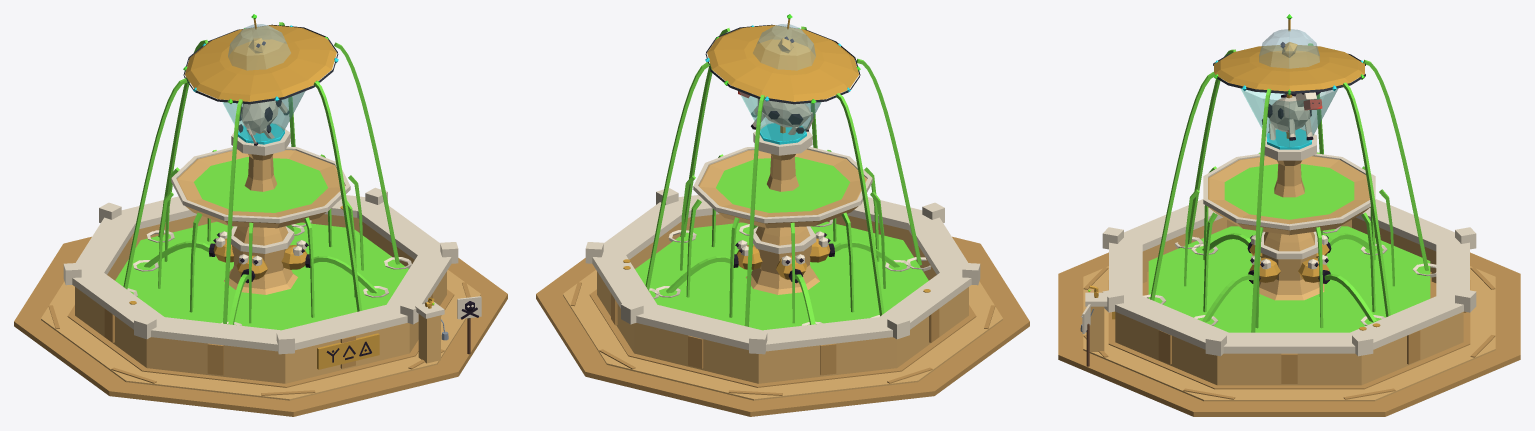
Rendered from Bldg_Fountain.obj.
The picture shows the model from 3 angles, left to right: view 1: azimuth 30°, elevation 25°; view 2: azimuth 150°, elevation 25°; view 3: azimuth 270°, elevation 25°; orthographic projection.
Parts seen in each view (by area): view 1: Bldg_Fountain_Body, Bldg_Fountain_Liquid, Bldg_Fountain_Streams, Bldg_Fountain_Saucer, Bldg_Fountain_Cow; view 2: Bldg_Fountain_Body, Bldg_Fountain_Liquid, Bldg_Fountain_Streams, Bldg_Fountain_Saucer, Bldg_Fountain_Cow; view 3: Bldg_Fountain_Body, Bldg_Fountain_Liquid, Bldg_Fountain_Streams, Bldg_Fountain_Saucer, Bldg_Fountain_Cow.
Boxes of the visible parts, box(x1,y1,x2,y2) form: Bldg_Fountain_Body: box(14, 91, 507, 416); Bldg_Fountain_Liquid: box(115, 157, 411, 330); Bldg_Fountain_Streams: box(123, 22, 399, 324); Bldg_Fountain_Saucer: box(183, 14, 338, 104); Bldg_Fountain_Cow: box(238, 100, 289, 145); Bldg_Fountain_Body: box(536, 91, 1029, 416); Bldg_Fountain_Liquid: box(635, 157, 931, 330); Bldg_Fountain_Streams: box(645, 26, 921, 326); Bldg_Fountain_Saucer: box(705, 14, 860, 104); Bldg_Fountain_Cow: box(738, 91, 813, 134); Bldg_Fountain_Body: box(1058, 88, 1520, 416); Bldg_Fountain_Liquid: box(1143, 164, 1436, 332); Bldg_Fountain_Streams: box(1150, 43, 1428, 332); Bldg_Fountain_Saucer: box(1213, 14, 1365, 95); Bldg_Fountain_Cow: box(1262, 92, 1322, 140).
Bounding box in the file's own units: 8.5 × 6.12 × 8.5.
